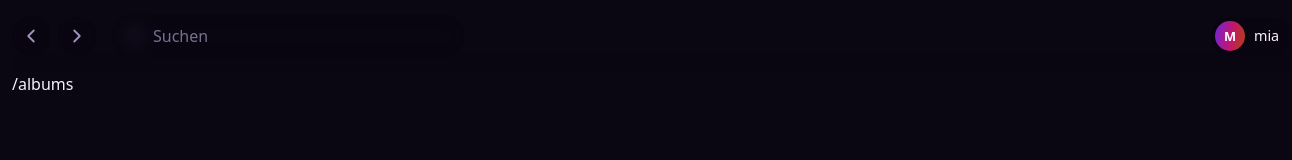
Test: Obere Leiste › sucht über das Feld und zeigt das Profil
Expected: the text "mia" is shown, x1=1254 y1=25 x2=1279 y2=47
Type "Daft Punk" into the search field labelled "Suche" at (288, 36), box x1=112 y1=14 x2=464 y2=58
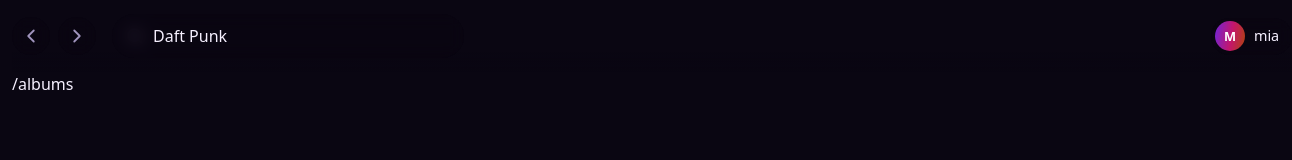
Submit the form, box x1=112 y1=14 x2=464 y2=58
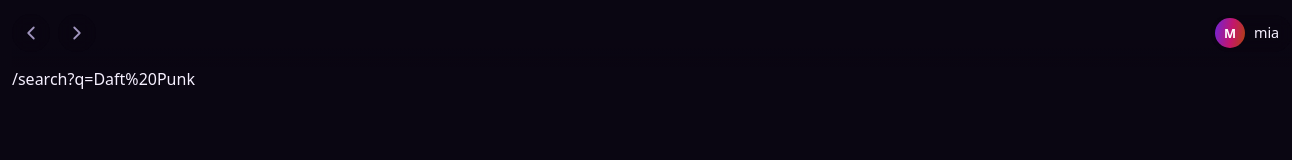
Expected: the text with test id "where" reads "/search?q=Daft%20Punk", x1=12 y1=68 x2=195 y2=90
